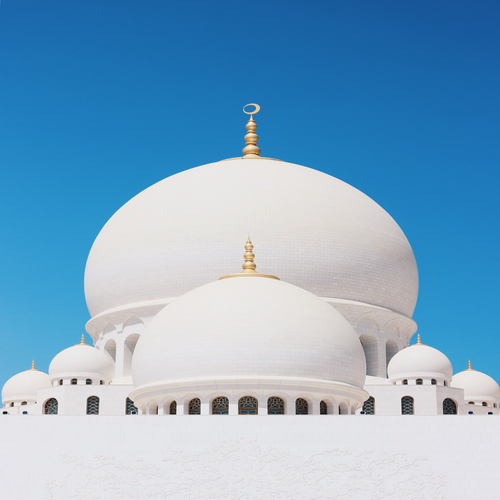Mosque: (18, 99, 490, 408)
